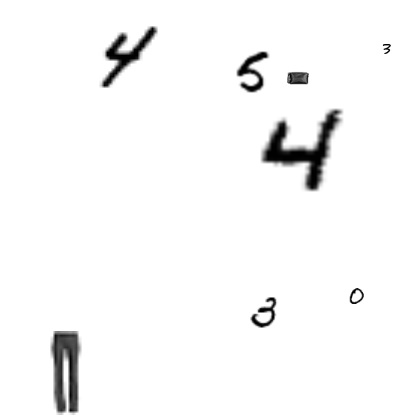0: (345, 285, 367, 307)
3: (243, 293, 285, 335), (380, 41, 394, 55)
4: (246, 94, 358, 206), (82, 12, 166, 96)
5: (223, 42, 279, 98)
Bag: (287, 67, 309, 89)
Trouser: (24, 331, 108, 415)
